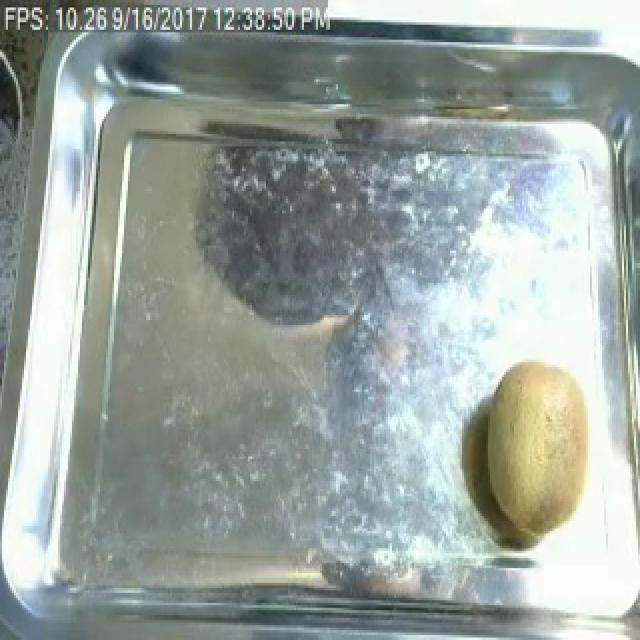Fruit: (470, 350, 606, 543)
